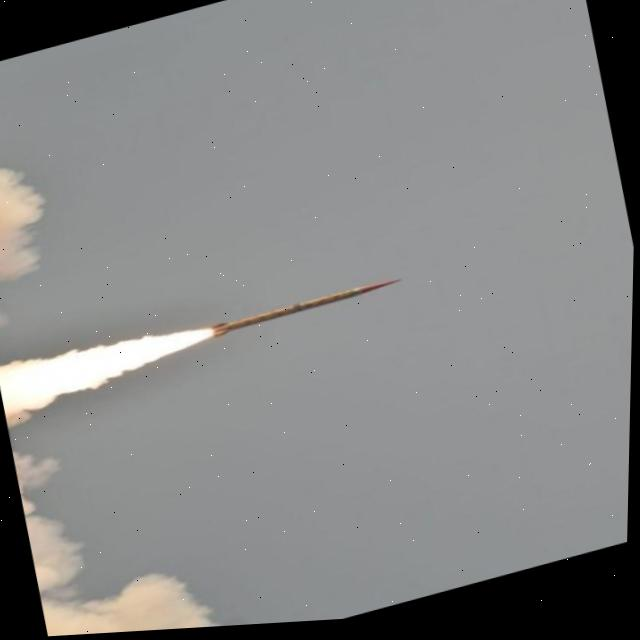missile: (207, 269, 409, 347)
